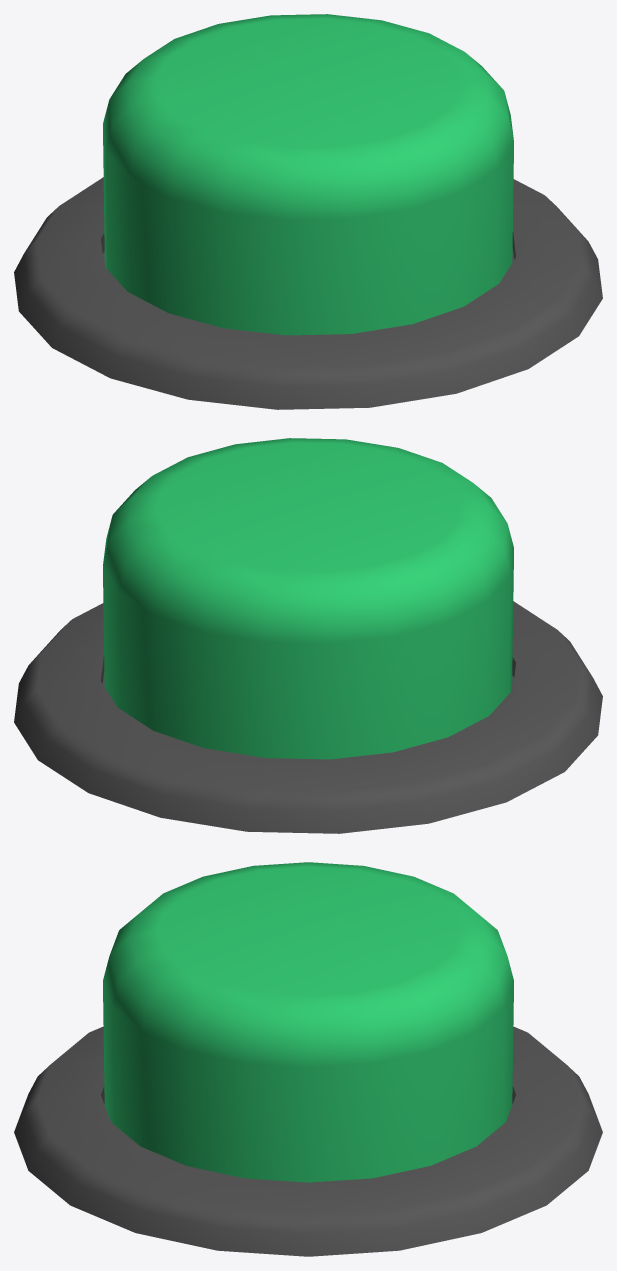
File: button6.glb
3 renders of one model, top to bottom at view 1: azimuth 30°, elevation 25°; view 2: azimuth 150°, elevation 25°; view 3: azimuth 270°, elevation 25°, orthographic.
Visible parts, largest first — view 1: SM_SimpleButton_B.001, SM_SimpleButton_Base_B.001; view 2: SM_SimpleButton_B.001, SM_SimpleButton_Base_B.001; view 3: SM_SimpleButton_B.001, SM_SimpleButton_Base_B.001.
Boxes of the visible parts, x1,y1,x2,y2 form: SM_SimpleButton_B.001: (103, 14, 513, 335); SM_SimpleButton_Base_B.001: (14, 177, 602, 409); SM_SimpleButton_B.001: (103, 438, 513, 759); SM_SimpleButton_Base_B.001: (14, 601, 602, 833); SM_SimpleButton_B.001: (103, 862, 513, 1182); SM_SimpleButton_Base_B.001: (14, 1026, 602, 1256).
Bounding box in the file's own units: 24.07 × 9.07 × 24.07.
